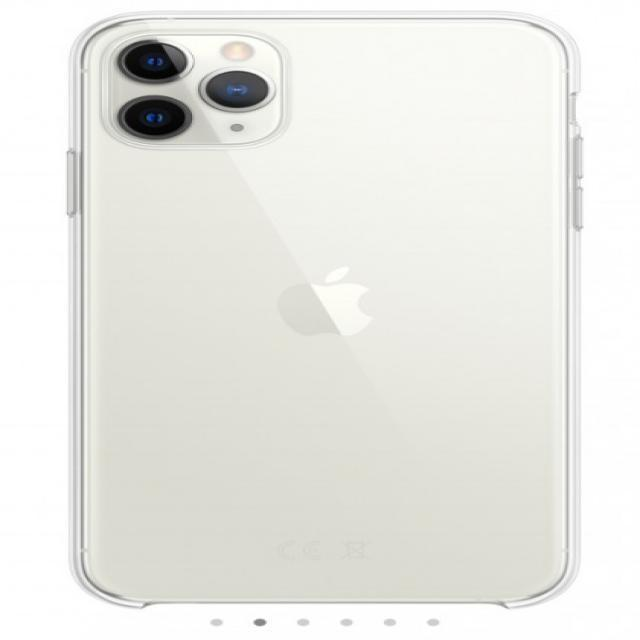phone: (61, 10, 585, 608)
